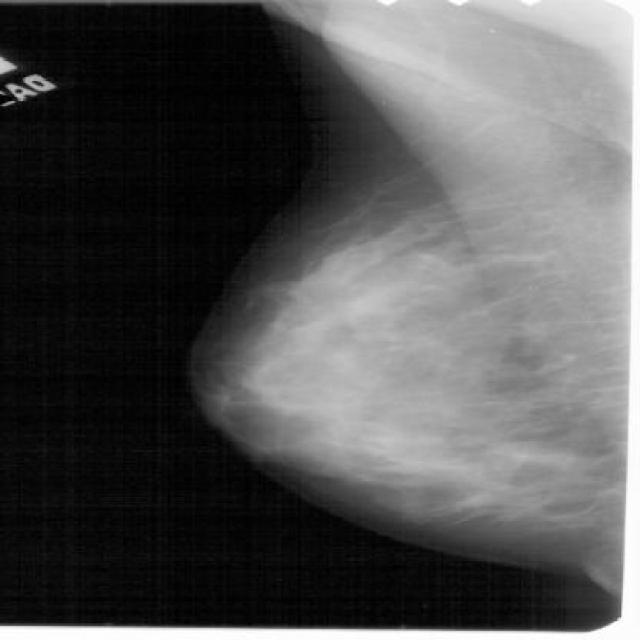tumor: (212, 211, 572, 544)
